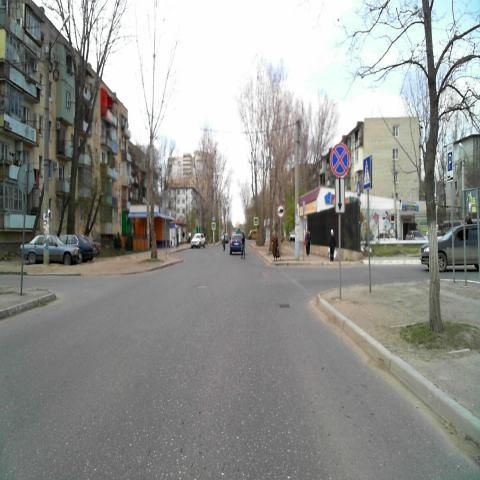8_2_3: (334, 176, 346, 214)
